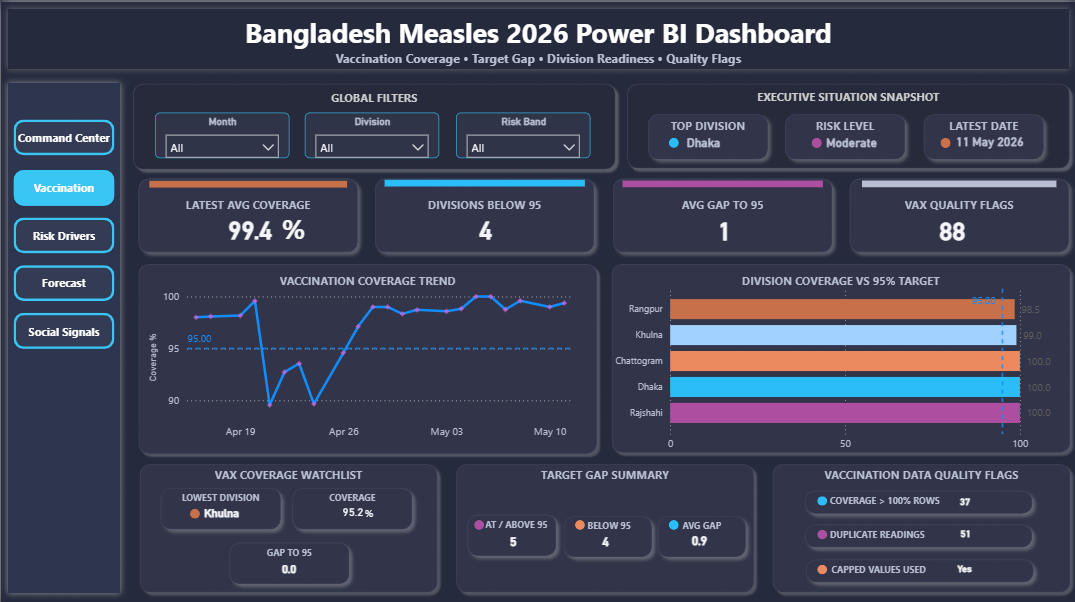

What the dashboard file says about the page in this screenshot:
{"tool":"powerbi","page":{"name":"Vaccination Analysis","canvas":[1280,720],"ordinal":1},"visuals":[{"type":"shape","box":[150,90,588.9,116.7],"z":0},{"type":"shape","box":[0,0,1279.4,88.2],"z":1000},{"type":"textbox","box":[0.6,10,1279.4,76.5],"z":2000},{"type":"shape","box":[0,88.8,150,623.8],"z":3000},{"type":"actionButton","box":[15,140,120,42.5],"z":4000},{"type":"actionButton","box":[15,200.6,120,42.5],"z":5000},{"type":"actionButton","box":[15,256.9,120,42.5],"z":6000},{"type":"actionButton","box":[15,313.1,120,42.5],"z":7000},{"type":"actionButton","box":[15,370.6,120,43.1],"z":8000},{"type":"slicer","title":"Month","fields":{"Values":["Dim Date.month_name"]},"box":[183.3,132.2,160,54.4],"z":10000},{"type":"slicer","title":"Division ","fields":{"Values":["Dim Division.division"]},"box":[362.2,132.2,160,54.4],"z":11000},{"type":"slicer","title":"Risk Band","fields":{"Values":["Dim Division.Risk Band"]},"box":[541.1,132.2,160,54.4],"z":12000},{"type":"shape","title":"TOTAL CASES","box":[155,201.7,278.3,105],"z":13000},{"type":"shape","box":[720,201,278.3,105],"z":14000},{"type":"shape","box":[436.7,201,278.3,105],"z":15000},{"type":"shape","box":[1001.7,201,278.3,105],"z":16000},{"type":"shape","box":[176.2,180,235.4,73.8],"z":17000},{"type":"shape","box":[739.2,180,238.5,73.1],"z":18000},{"type":"shape","box":[1024.6,180,231.5,73.1],"z":19000},{"type":"shape","box":[456.9,178.5,238.5,74.6],"z":20000},{"type":"advanceCardE03760C5AB684758B56AA29F9E6C257B","fields":{"mainMeasure":["_Measures.Latest Avg Vax Coverage %"]},"box":[170,243.8,253.1,57.7],"z":21000},{"type":"advanceCardE03760C5AB684758B56AA29F9E6C257B","fields":{"mainMeasure":["_Measures.Divisions Below 95"]},"box":[444.6,243.8,263.8,57.7],"z":22000},{"type":"advanceCardE03760C5AB684758B56AA29F9E6C257B","fields":{"mainMeasure":["_Measures.Avg Gap to 95"]},"box":[730.8,245.4,262.3,56.2],"z":23000},{"type":"advanceCardE03760C5AB684758B56AA29F9E6C257B","fields":{"mainMeasure":["_Measures.Vax Quality Flags"]},"box":[993.1,245.4,278.5,56.2],"z":24000},{"type":"textbox","box":[311.7,243.3,73.3,56.7],"z":25000},{"type":"shape","box":[157.1,305,560,240],"z":26000},{"type":"lineChart","fields":{"Category":["Dim Date.date"],"Y":["_Measures.Avg Vax Coverage Trend %"]},"box":[170,332.9,525.7,195.7],"z":27000},{"type":"shape","box":[720,305.7,560,238.6],"z":28000},{"type":"clusteredBarChart","fields":{"Category":["Dim Division.division"],"Y":["_Measures.Latest Avg Vax Coverage %"]},"box":[721.7,328.3,543.3,215],"z":29000},{"type":"shape","box":[738.9,90,541.1,115.6],"z":30000},{"type":"shape","box":[761.1,124.4,160,71.1],"z":31000},{"type":"shape","box":[925.6,124.4,160,71.1],"z":32000},{"type":"shape","box":[1090,124.4,160,71.1],"z":33000},{"type":"advanceCardE03760C5AB684758B56AA29F9E6C257B","fields":{"mainMeasure":["_Measures.Top Division by Cases"]},"box":[795.4,153.8,83.1,28.5],"z":34000},{"type":"advanceCardE03760C5AB684758B56AA29F9E6C257B","fields":{"mainMeasure":["_Measures.Executive Risk Level"]},"box":[960.8,148.5,106.2,38.5],"z":35000},{"type":"advanceCardE03760C5AB684758B56AA29F9E6C257B","fields":{"mainMeasure":["_Measures.Latest Reporting Date"]},"box":[1118.5,140,118.5,52.3],"z":36000},{"type":"shape","box":[795.4,162.3,12,12],"z":37000},{"type":"shape","box":[965.4,161.5,12.3,12.3],"z":38000},{"type":"shape","box":[1118.5,162.3,12.3,12.3],"z":39000},{"type":"shape","box":[158.3,543.3,368.3,166.7],"z":40000},{"type":"shape","box":[535,543,368.3,166.7],"z":41000},{"type":"shape","box":[911.7,543,368.3,166.7],"z":42000},{"type":"shape","box":[182.2,570,160,66.7],"z":43000},{"type":"advanceCardE03760C5AB684758B56AA29F9E6C257B","fields":{"mainMeasure":["_Measures.Lowest Vax Coverage Division"]},"box":[194.4,588.9,135.6,40],"z":44000},{"type":"shape","box":[263.3,635.6,160,66.7],"z":45000},{"type":"shape","box":[337.8,570,160,66.7],"z":46000},{"type":"advanceCardE03760C5AB684758B56AA29F9E6C257B","fields":{"mainMeasure":["_Measures.Lowest Vax Coverage %"]},"box":[354.7,588.8,127.6,37.6],"z":47000},{"type":"textbox","box":[428.2,593.5,47.1,34.7],"z":48000},{"type":"advanceCardE03760C5AB684758B56AA29F9E6C257B","fields":{"mainMeasure":["_Measures.Lowest Coverage Gap to 95"]},"box":[285.9,655.3,114.1,40],"z":49000},{"type":"shape","box":[225.5,603.6,11.8,11.8],"z":50000},{"type":"shape","box":[546.4,601.8,123,66.4],"z":51000},{"type":"shape","box":[660.9,602.7,121.8,66.4],"z":52000},{"type":"shape","box":[772.7,602.7,122,66.4],"z":53000},{"type":"shape","box":[563.6,616.4,11.8,11.8],"z":54000},{"type":"shape","box":[683.6,617.3,11.8,11.8],"z":55000},{"type":"shape","box":[795.5,617.3,11.8,11.8],"z":56000},{"type":"advanceCardE03760C5AB684758B56AA29F9E6C257B","fields":{"mainMeasure":["_Measures.Divisions At or Above 95"]},"box":[558.2,623.6,102.7,38.2],"z":57000},{"type":"advanceCardE03760C5AB684758B56AA29F9E6C257B","fields":{"mainMeasure":["_Measures.Divisions Below 95"]},"box":[670,626.4,100.9,32.7],"z":58000},{"type":"advanceCardE03760C5AB684758B56AA29F9E6C257B","fields":{"mainMeasure":["_Measures.Avg Gap to 95"]},"box":[780.9,625.5,100.9,32.7],"z":59000},{"type":"shape","box":[948.2,573.6,288.2,44.5],"z":60000},{"type":"shape","box":[948,614,288,44.7],"z":61000},{"type":"shape","box":[949.3,655.3,288,44.7],"z":62000},{"type":"shape","box":[971.3,588.7,12,11.3],"z":63000},{"type":"shape","box":[972,628.7,12,11.3],"z":64000},{"type":"shape","box":[972,670,12,11.3],"z":65000},{"type":"advanceCardE03760C5AB684758B56AA29F9E6C257B","fields":{"mainMeasure":["_Measures.Coverage Over 100 Rows"]},"box":[1075.3,580,146.5,30.6],"z":66000},{"type":"advanceCardE03760C5AB684758B56AA29F9E6C257B","fields":{"mainMeasure":["_Measures.Duplicate Vax Readings"]},"box":[1075.3,618.8,146.5,30.6],"z":67000},{"type":"advanceCardE03760C5AB684758B56AA29F9E6C257B","fields":{"mainMeasure":["_Measures.Capped Values Used"]},"box":[1075.3,660.6,146.5,30.6],"z":68000}]}

Visuals, with their boxes in screenshot pixels (x1, y1, x2, y2), scaled from the page's 1280x720 canvas onto the 1075x602 screenshot:
shape: {"x1": 126, "y1": 75, "x2": 621, "y2": 173}
shape: {"x1": 0, "y1": 0, "x2": 1074, "y2": 74}
textbox: {"x1": 1, "y1": 8, "x2": 1074, "y2": 72}
shape: {"x1": 0, "y1": 74, "x2": 126, "y2": 596}
actionButton: {"x1": 13, "y1": 117, "x2": 113, "y2": 153}
actionButton: {"x1": 13, "y1": 168, "x2": 113, "y2": 203}
actionButton: {"x1": 13, "y1": 215, "x2": 113, "y2": 250}
actionButton: {"x1": 13, "y1": 262, "x2": 113, "y2": 297}
actionButton: {"x1": 13, "y1": 310, "x2": 113, "y2": 346}
"Month" slicer: {"x1": 154, "y1": 111, "x2": 288, "y2": 156}
"Division " slicer: {"x1": 304, "y1": 111, "x2": 439, "y2": 156}
"Risk Band" slicer: {"x1": 454, "y1": 111, "x2": 589, "y2": 156}
"TOTAL CASES" shape: {"x1": 130, "y1": 169, "x2": 364, "y2": 256}
shape: {"x1": 605, "y1": 168, "x2": 838, "y2": 256}
shape: {"x1": 367, "y1": 168, "x2": 600, "y2": 256}
shape: {"x1": 841, "y1": 168, "x2": 1074, "y2": 256}
shape: {"x1": 148, "y1": 150, "x2": 346, "y2": 212}
shape: {"x1": 621, "y1": 150, "x2": 821, "y2": 212}
shape: {"x1": 861, "y1": 150, "x2": 1055, "y2": 212}
shape: {"x1": 384, "y1": 149, "x2": 584, "y2": 212}
advanceCardE03760C5AB684758B56AA29F9E6C257B - _Measures.Latest Avg Vax Coverage %: {"x1": 143, "y1": 204, "x2": 355, "y2": 252}
advanceCardE03760C5AB684758B56AA29F9E6C257B - _Measures.Divisions Below 95: {"x1": 373, "y1": 204, "x2": 595, "y2": 252}
advanceCardE03760C5AB684758B56AA29F9E6C257B - _Measures.Avg Gap to 95: {"x1": 614, "y1": 205, "x2": 834, "y2": 252}
advanceCardE03760C5AB684758B56AA29F9E6C257B - _Measures.Vax Quality Flags: {"x1": 834, "y1": 205, "x2": 1068, "y2": 252}
textbox: {"x1": 262, "y1": 203, "x2": 323, "y2": 251}
shape: {"x1": 132, "y1": 255, "x2": 602, "y2": 456}
lineChart - Dim Date.date x _Measures.Avg Vax Coverage Trend %: {"x1": 143, "y1": 278, "x2": 584, "y2": 442}
shape: {"x1": 605, "y1": 256, "x2": 1074, "y2": 455}
clusteredBarChart - Dim Division.division x _Measures.Latest Avg Vax Coverage %: {"x1": 606, "y1": 274, "x2": 1062, "y2": 454}
shape: {"x1": 621, "y1": 75, "x2": 1074, "y2": 172}
shape: {"x1": 639, "y1": 104, "x2": 774, "y2": 163}
shape: {"x1": 777, "y1": 104, "x2": 912, "y2": 163}
shape: {"x1": 915, "y1": 104, "x2": 1050, "y2": 163}
advanceCardE03760C5AB684758B56AA29F9E6C257B - _Measures.Top Division by Cases: {"x1": 668, "y1": 129, "x2": 738, "y2": 152}
advanceCardE03760C5AB684758B56AA29F9E6C257B - _Measures.Executive Risk Level: {"x1": 807, "y1": 124, "x2": 896, "y2": 156}
advanceCardE03760C5AB684758B56AA29F9E6C257B - _Measures.Latest Reporting Date: {"x1": 939, "y1": 117, "x2": 1039, "y2": 161}
shape: {"x1": 668, "y1": 136, "x2": 678, "y2": 146}
shape: {"x1": 811, "y1": 135, "x2": 821, "y2": 145}
shape: {"x1": 939, "y1": 136, "x2": 950, "y2": 146}
shape: {"x1": 133, "y1": 454, "x2": 442, "y2": 594}
shape: {"x1": 449, "y1": 454, "x2": 759, "y2": 593}
shape: {"x1": 766, "y1": 454, "x2": 1074, "y2": 593}
shape: {"x1": 153, "y1": 477, "x2": 287, "y2": 532}
advanceCardE03760C5AB684758B56AA29F9E6C257B - _Measures.Lowest Vax Coverage Division: {"x1": 163, "y1": 492, "x2": 277, "y2": 526}
shape: {"x1": 221, "y1": 531, "x2": 356, "y2": 587}
shape: {"x1": 284, "y1": 477, "x2": 418, "y2": 532}
advanceCardE03760C5AB684758B56AA29F9E6C257B - _Measures.Lowest Vax Coverage %: {"x1": 298, "y1": 492, "x2": 405, "y2": 524}
textbox: {"x1": 360, "y1": 496, "x2": 399, "y2": 525}
advanceCardE03760C5AB684758B56AA29F9E6C257B - _Measures.Lowest Coverage Gap to 95: {"x1": 240, "y1": 548, "x2": 336, "y2": 581}
shape: {"x1": 189, "y1": 505, "x2": 199, "y2": 515}
shape: {"x1": 459, "y1": 503, "x2": 562, "y2": 559}
shape: {"x1": 555, "y1": 504, "x2": 657, "y2": 559}
shape: {"x1": 649, "y1": 504, "x2": 751, "y2": 559}
shape: {"x1": 473, "y1": 515, "x2": 483, "y2": 525}
shape: {"x1": 574, "y1": 516, "x2": 584, "y2": 526}
shape: {"x1": 668, "y1": 516, "x2": 678, "y2": 526}
advanceCardE03760C5AB684758B56AA29F9E6C257B - _Measures.Divisions At or Above 95: {"x1": 469, "y1": 521, "x2": 555, "y2": 553}
advanceCardE03760C5AB684758B56AA29F9E6C257B - _Measures.Divisions Below 95: {"x1": 563, "y1": 524, "x2": 647, "y2": 551}
advanceCardE03760C5AB684758B56AA29F9E6C257B - _Measures.Avg Gap to 95: {"x1": 656, "y1": 523, "x2": 741, "y2": 550}
shape: {"x1": 796, "y1": 480, "x2": 1038, "y2": 517}
shape: {"x1": 796, "y1": 513, "x2": 1038, "y2": 551}
shape: {"x1": 797, "y1": 548, "x2": 1039, "y2": 585}
shape: {"x1": 816, "y1": 492, "x2": 826, "y2": 502}
shape: {"x1": 816, "y1": 526, "x2": 826, "y2": 535}
shape: {"x1": 816, "y1": 560, "x2": 826, "y2": 570}
advanceCardE03760C5AB684758B56AA29F9E6C257B - _Measures.Coverage Over 100 Rows: {"x1": 903, "y1": 485, "x2": 1026, "y2": 511}
advanceCardE03760C5AB684758B56AA29F9E6C257B - _Measures.Duplicate Vax Readings: {"x1": 903, "y1": 517, "x2": 1026, "y2": 543}
advanceCardE03760C5AB684758B56AA29F9E6C257B - _Measures.Capped Values Used: {"x1": 903, "y1": 552, "x2": 1026, "y2": 578}
